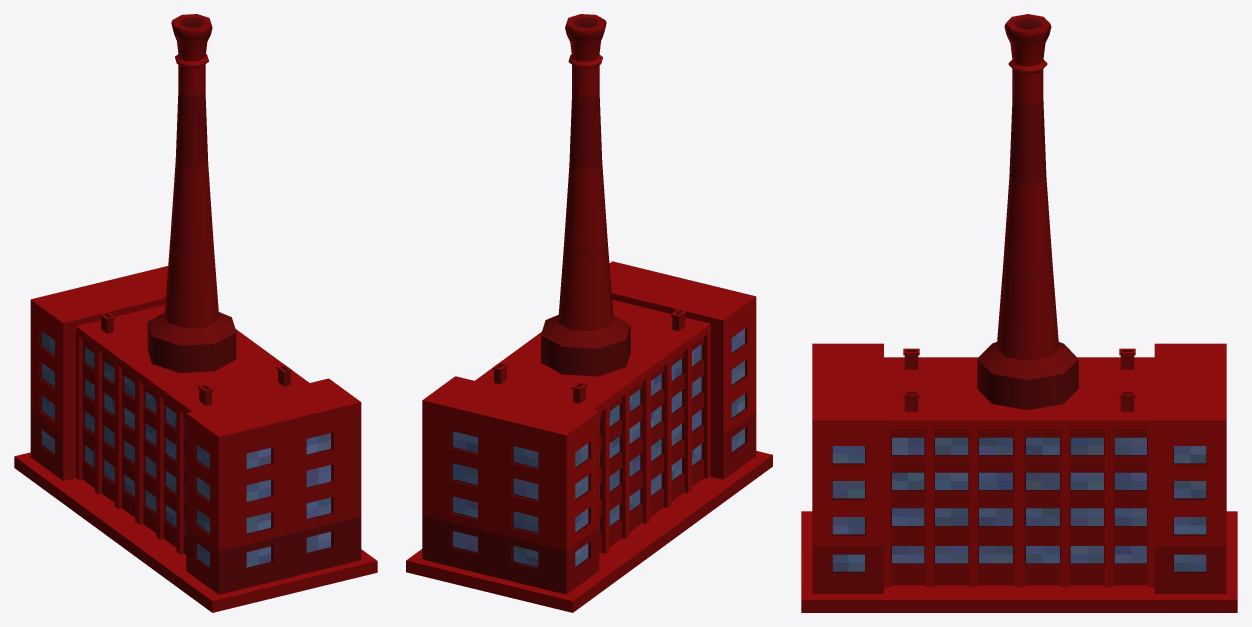
Rendered from Mesh.Factory.fbx.
3 renders of one model, left to right at view 1: azimuth 30°, elevation 25°; view 2: azimuth 150°, elevation 25°; view 3: azimuth 270°, elevation 25°, orthographic. The views are drawn at different scales.
Parts seen in each view (by area): view 1: base.163, base.164, windowRefl.123; view 2: base.163, base.164, windowRefl.123; view 3: base.163, base.164, windowRefl.123.
Boxes of the visible parts, x1=… form: base.163: x1=14, y1=266, x2=377, y2=612; base.164: x1=147, y1=14, x2=236, y2=372; windowRefl.123: x1=42, y1=331, x2=330, y2=567; base.163: x1=406, y1=261, x2=772, y2=612; base.164: x1=541, y1=14, x2=630, y2=376; windowRefl.123: x1=453, y1=328, x2=744, y2=566; base.163: x1=801, y1=343, x2=1237, y2=612; base.164: x1=977, y1=14, x2=1078, y2=410; windowRefl.123: x1=832, y1=437, x2=1206, y2=571.
Size of the model in its own units: 4770 by 2296 by 6580.
